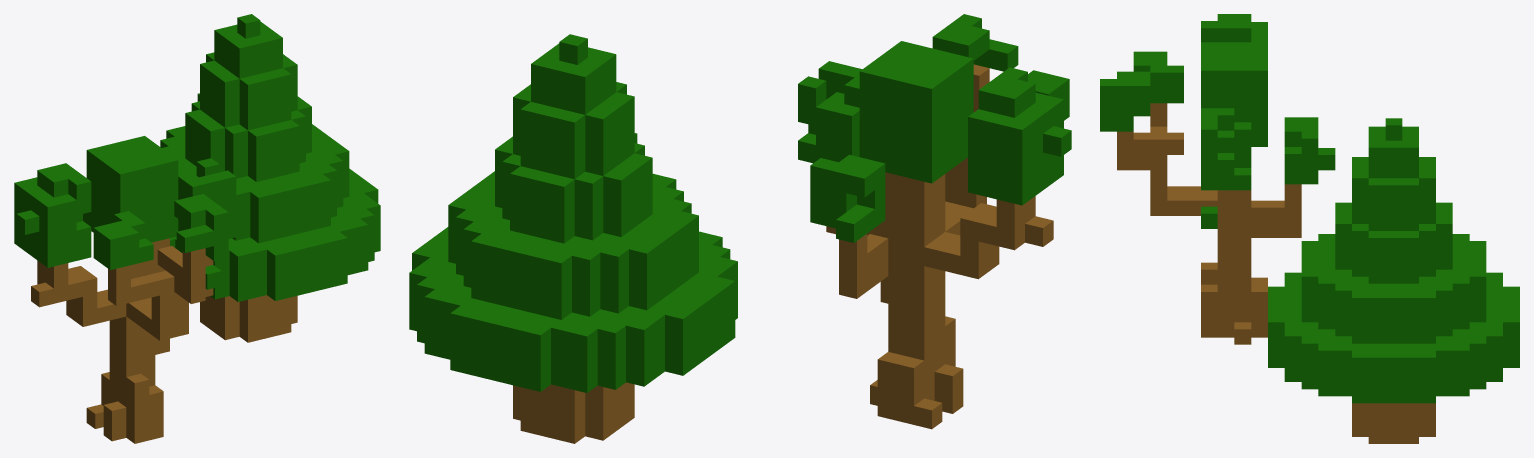
Rendered from voxel_trees.glb.
3 renders of one model, left to right at view 1: azimuth 30°, elevation 25°; view 2: azimuth 150°, elevation 25°; view 3: azimuth 270°, elevation 25°, orthographic. The views are drawn at different scales.
Parts seen in each view (by area): view 1: Object_2; view 2: Object_2; view 3: Object_2.
Part boxes in pixels (x1,y1,x2,y2): Object_2: (14,14,380,443); Object_2: (409,14,1071,443); Object_2: (1100,14,1519,443).
Bounding box in the file's own units: 29 × 20 × 25.
Materials: 1 (1 with a texture image).
